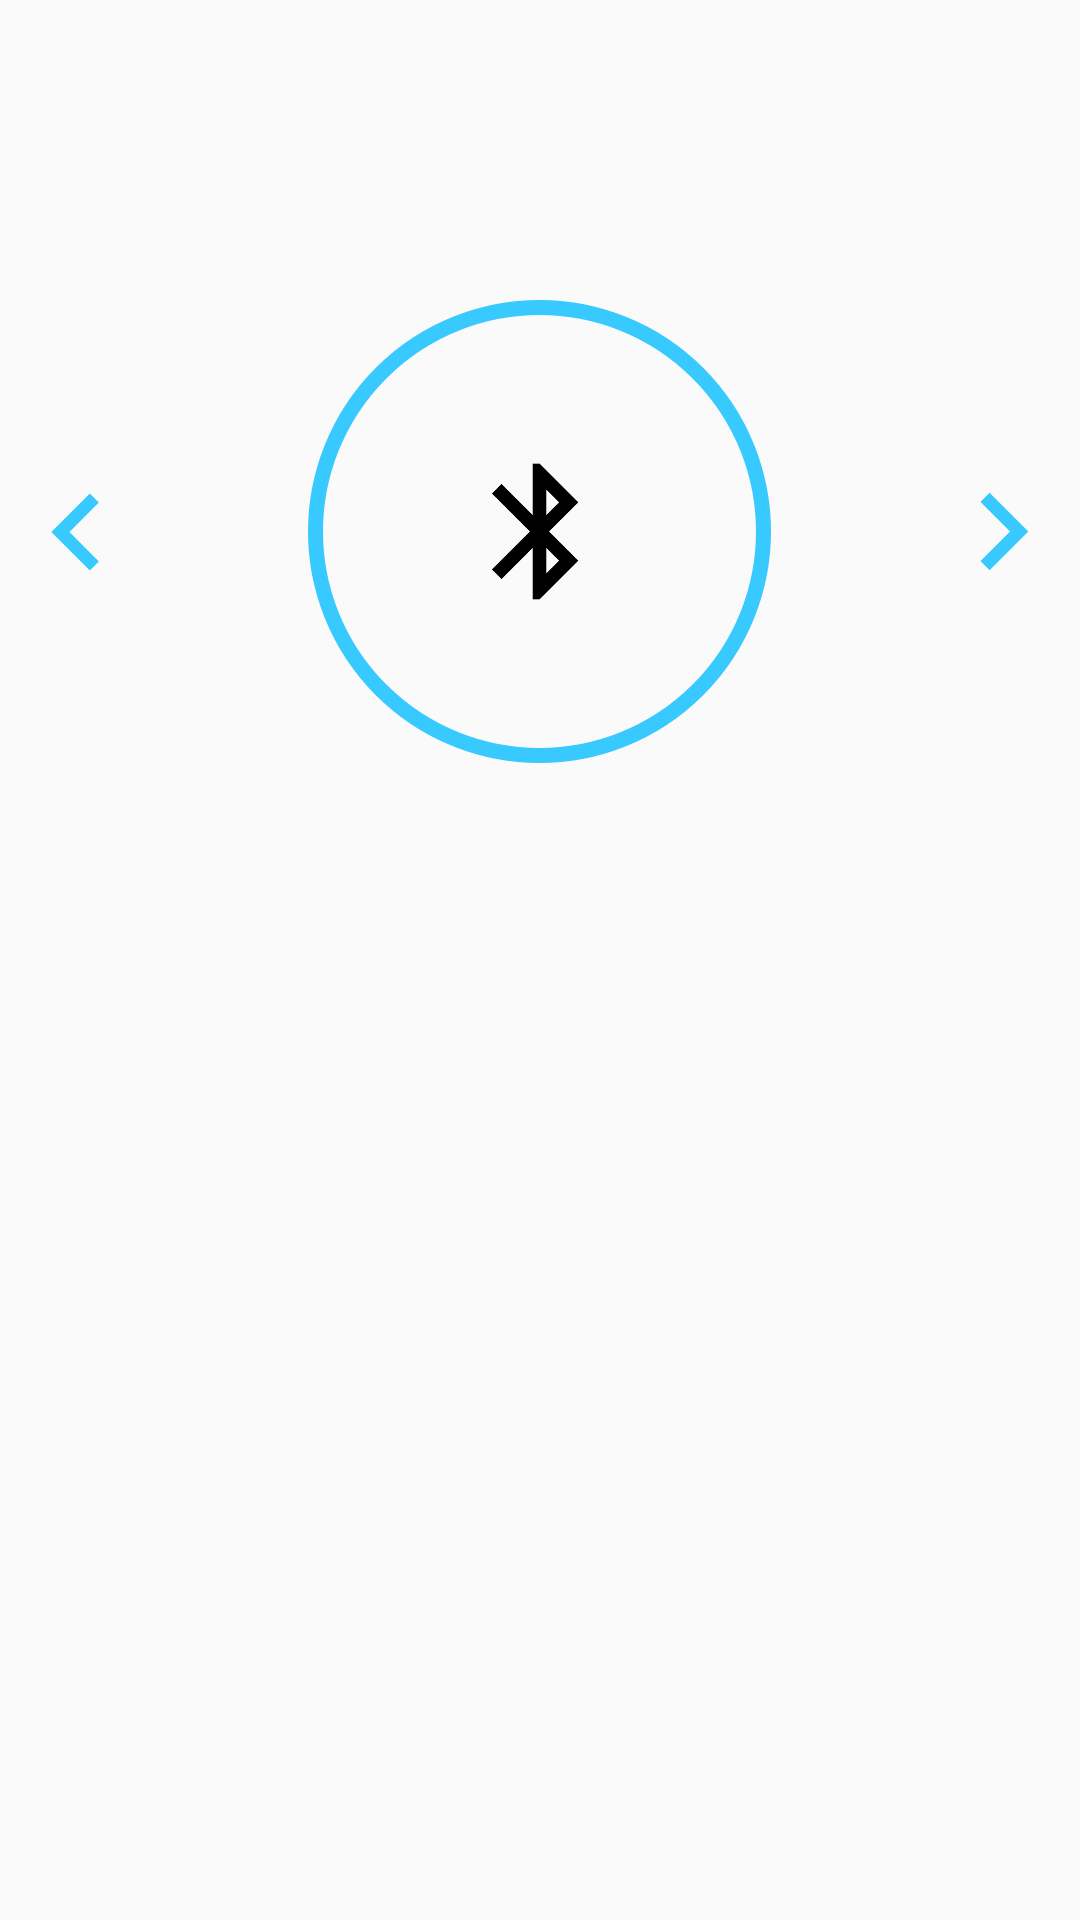

Icon bounding boxes for this 1080w x 1920h phone screenshot, format (x1, y1, x2, y2):
left: (51, 493, 99, 571)
right: (981, 493, 1029, 570)
